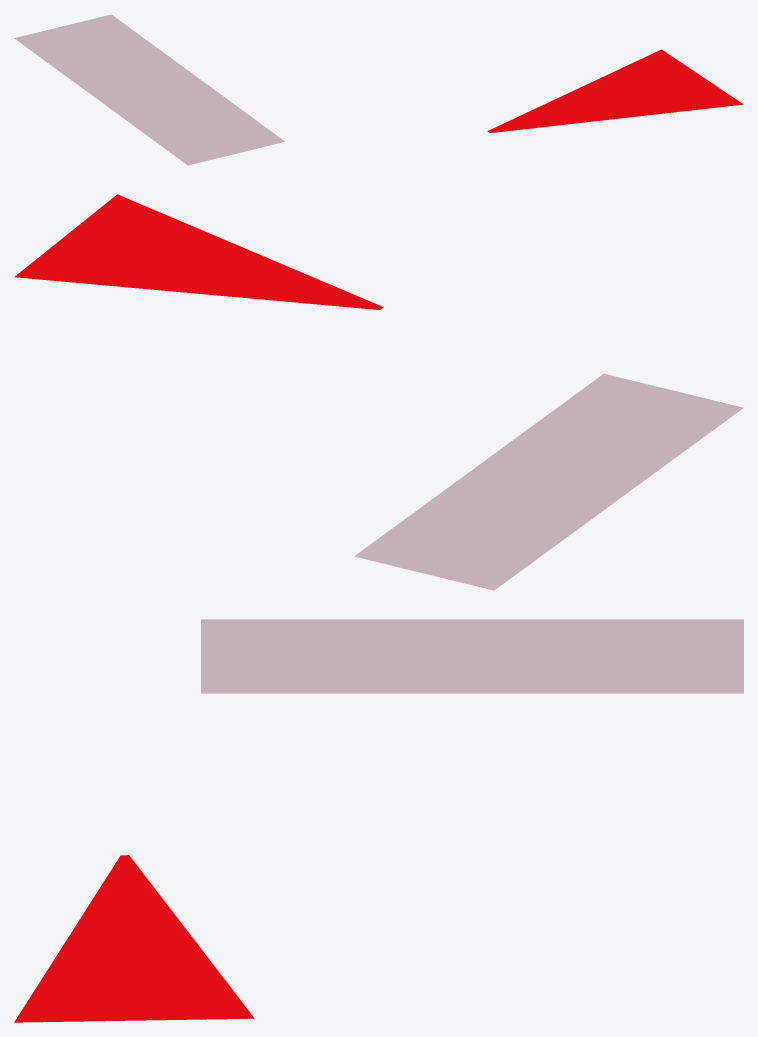
The model's file is monza.glb.
3 renders of one model, top to bottom at view 1: azimuth 30°, elevation 25°; view 2: azimuth 150°, elevation 25°; view 3: azimuth 270°, elevation 25°, orthographic. The views are drawn at different scales.
Visible parts, largest first — view 1: Plane.001, Plane.002; view 2: Plane.001, Plane.002; view 3: Plane.001, Plane.002.
Boxes of the visible parts, x1,y1,x2,y2 form: Plane.001: (14, 14, 284, 165); Plane.002: (487, 49, 743, 132); Plane.001: (354, 373, 743, 590); Plane.002: (14, 194, 383, 309); Plane.001: (201, 619, 743, 693); Plane.002: (14, 855, 254, 1022).
Size of what is drawn, in the model's own units: 1.6 by 0.05 by 1.3.
